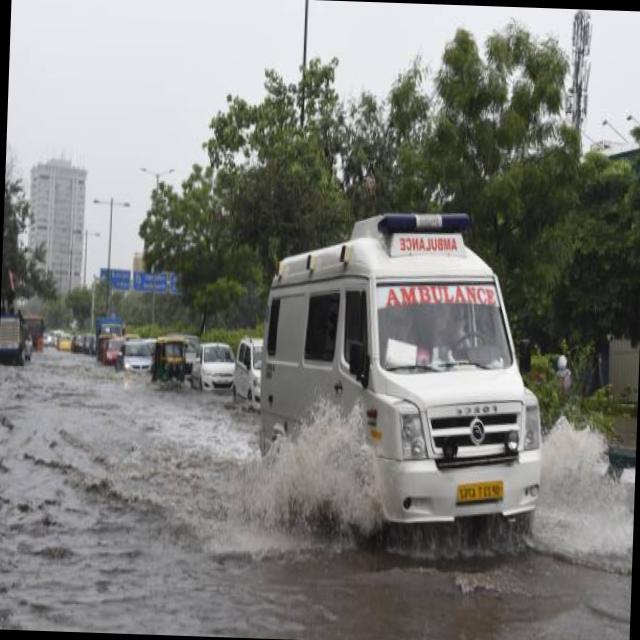ambulance: (373, 268, 498, 328), (370, 203, 472, 272)
